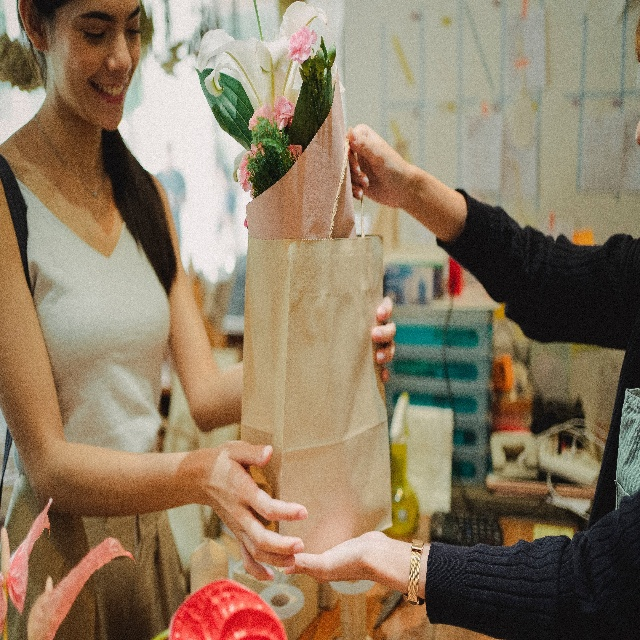Sin_guantes: (209, 439, 306, 579), (346, 120, 408, 208), (371, 297, 396, 382)
